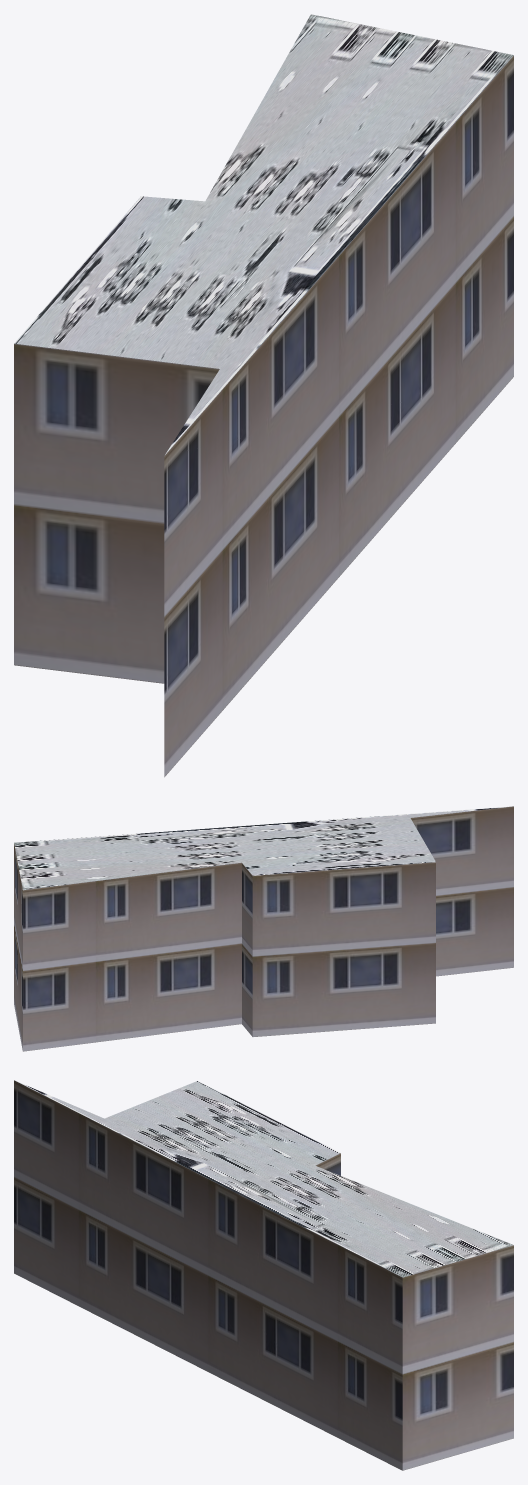
File: ResTex__3082.fbx
3 views of the same model, one above another, from view 1: azimuth 30°, elevation 25°; view 2: azimuth 150°, elevation 25°; view 3: azimuth 270°, elevation 25° (orthographic). The views are drawn at different scales.
Parts seen in each view (by area): view 1: CityEngineMaterial_21_m, CityEngineMaterial_8_m; view 2: CityEngineMaterial_21_m, CityEngineMaterial_8_m; view 3: CityEngineMaterial_21_m, CityEngineMaterial_8_m.
Boxes of the visible parts, x1=… form: CityEngineMaterial_21_m: x1=14, y1=55, x2=513, y2=777; CityEngineMaterial_8_m: x1=14, y1=14, x2=513, y2=454; CityEngineMaterial_21_m: x1=14, y1=806, x2=513, y2=1051; CityEngineMaterial_8_m: x1=14, y1=806, x2=508, y2=890; CityEngineMaterial_21_m: x1=14, y1=1080, x2=513, y2=1470; CityEngineMaterial_8_m: x1=16, y1=1081, x2=513, y2=1277.
Bounding box in the file's own units: 13.14 × 6 × 14.06.
Materials: 2 (2 with a texture image).
